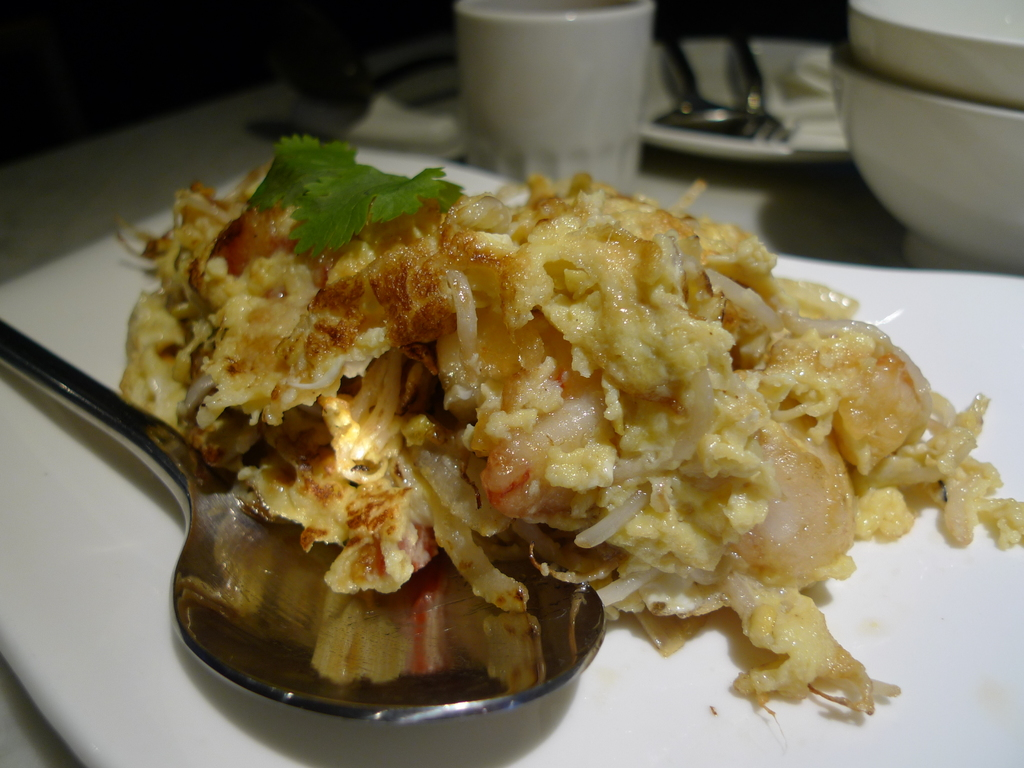plate: (26, 88, 1023, 767)
